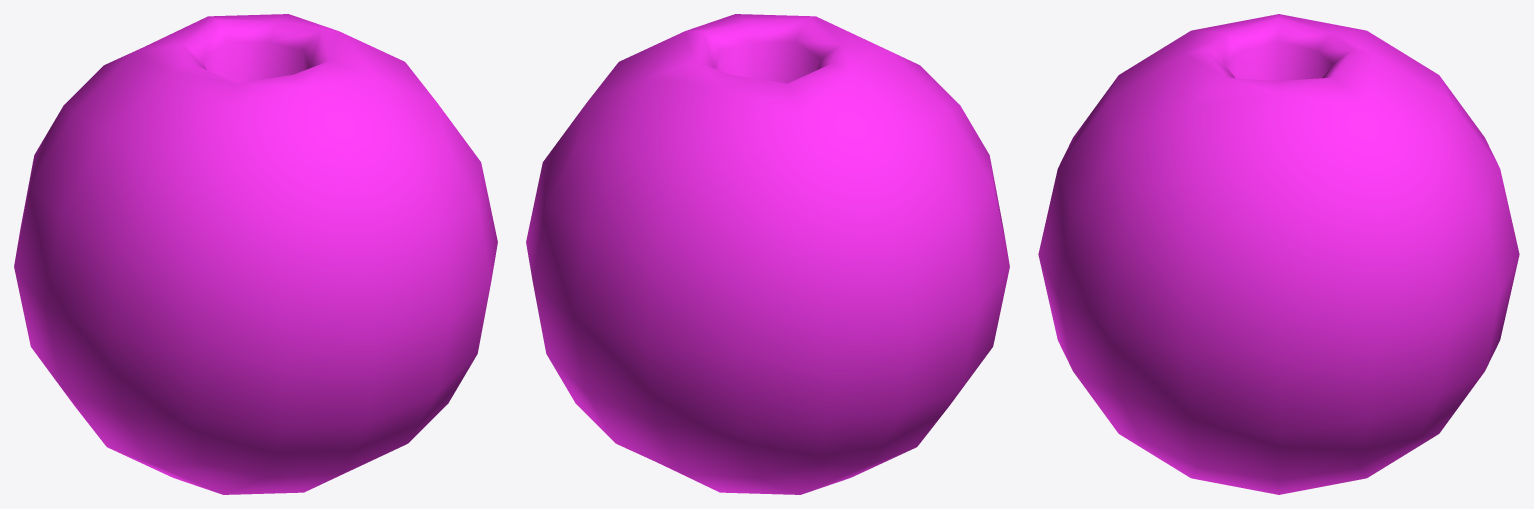
File: graine.fbx
The picture shows the model from 3 angles, left to right: view 1: azimuth 30°, elevation 25°; view 2: azimuth 150°, elevation 25°; view 3: azimuth 270°, elevation 25°; orthographic projection.
Parts seen in each view (by area): view 1: Box015; view 2: Box015; view 3: Box015.
Part boxes in pixels (<box>): Box015: <box>14,14,497,494</box>; Box015: <box>526,14,1009,494</box>; Box015: <box>1038,14,1519,494</box>.
Size of the model in its own units: 3.41 by 3.2 by 3.41.
